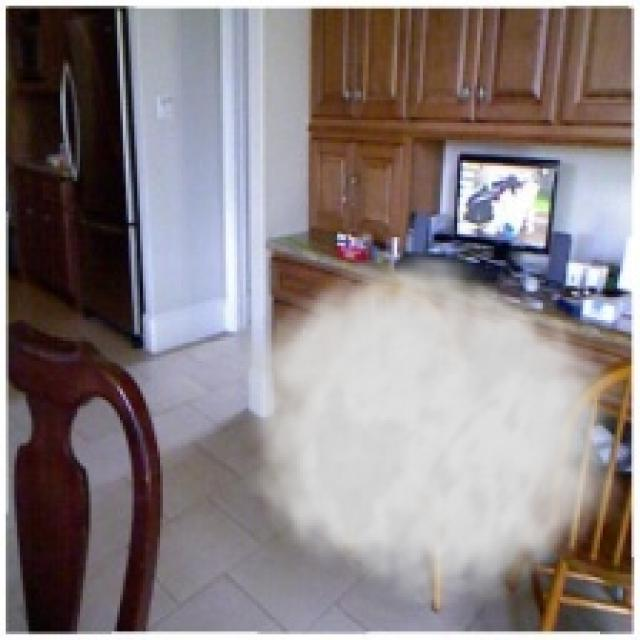smoke: (226, 240, 628, 626)
